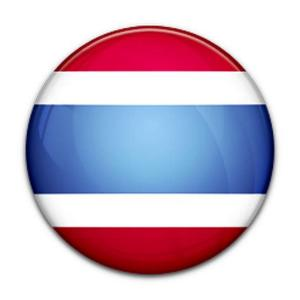Thailand: (24, 23, 275, 280)
